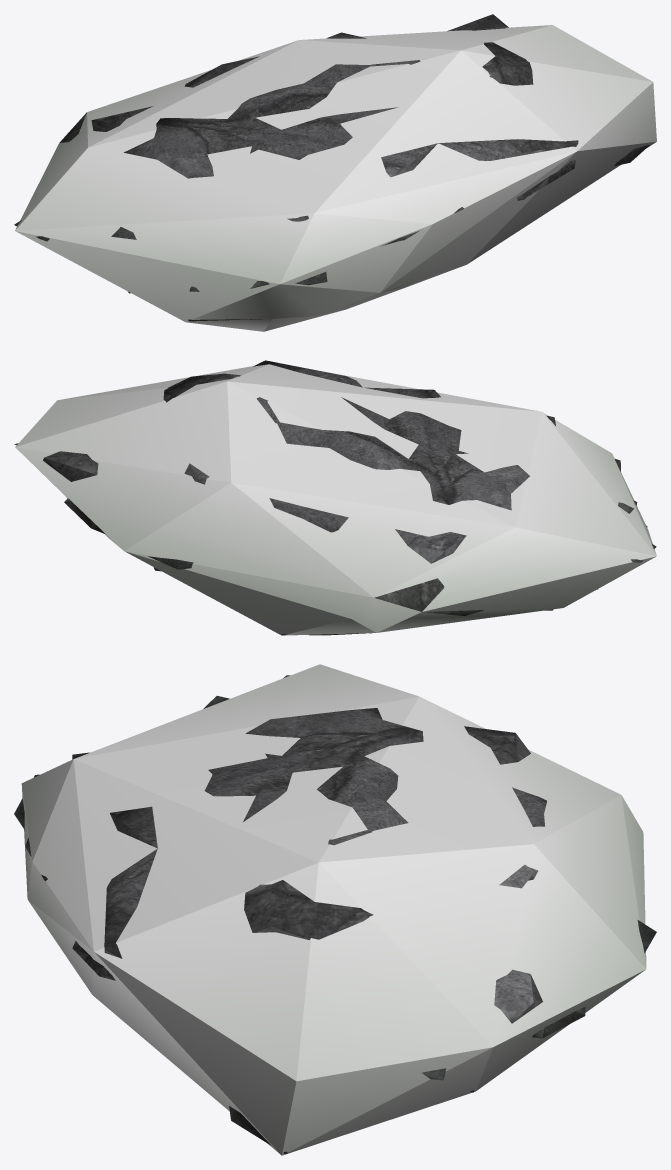
Rendered from shore_rock_b_slab.glb.
3 renders of one model, top to bottom at view 1: azimuth 30°, elevation 25°; view 2: azimuth 150°, elevation 25°; view 3: azimuth 270°, elevation 25°, orthographic. The views are drawn at different scales.
Visible parts, largest first — view 1: col_shore_rock_b_slab, shore_rock_b_slab; view 2: col_shore_rock_b_slab, shore_rock_b_slab; view 3: col_shore_rock_b_slab, shore_rock_b_slab.
Part boxes in pixels (box(x1,y1,x2,y2)): col_shore_rock_b_slab: box(15, 25, 656, 331); shore_rock_b_slab: box(14, 14, 649, 321); col_shore_rock_b_slab: box(15, 364, 656, 635); shore_rock_b_slab: box(14, 360, 656, 635); col_shore_rock_b_slab: box(21, 664, 646, 1155); shore_rock_b_slab: box(14, 675, 656, 1154).
Bounding box in the file's own units: 3.79 × 0.9283 × 2.45.
Materials: 1 (1 with a texture image).
